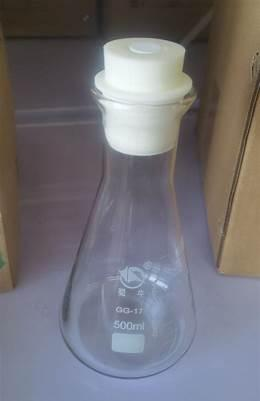Titrarion: (58, 32, 206, 380)
